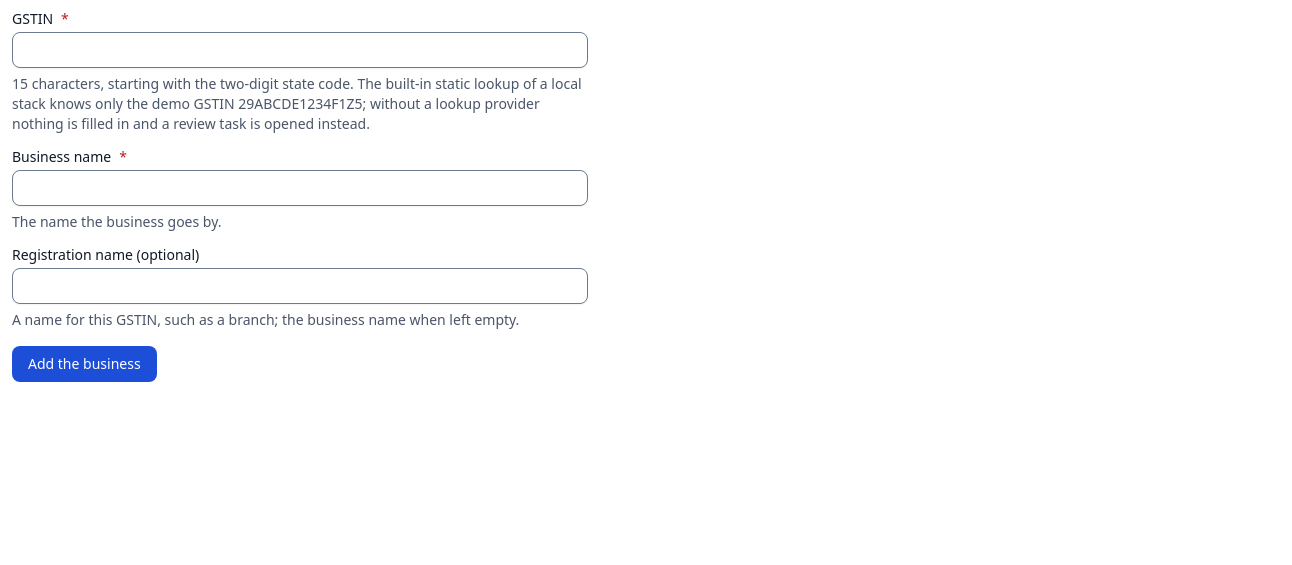
Test: BusinessForm › shows the service's problem with its correlation id
Click the button "Add the business": (84, 364) [12,346,157,382]
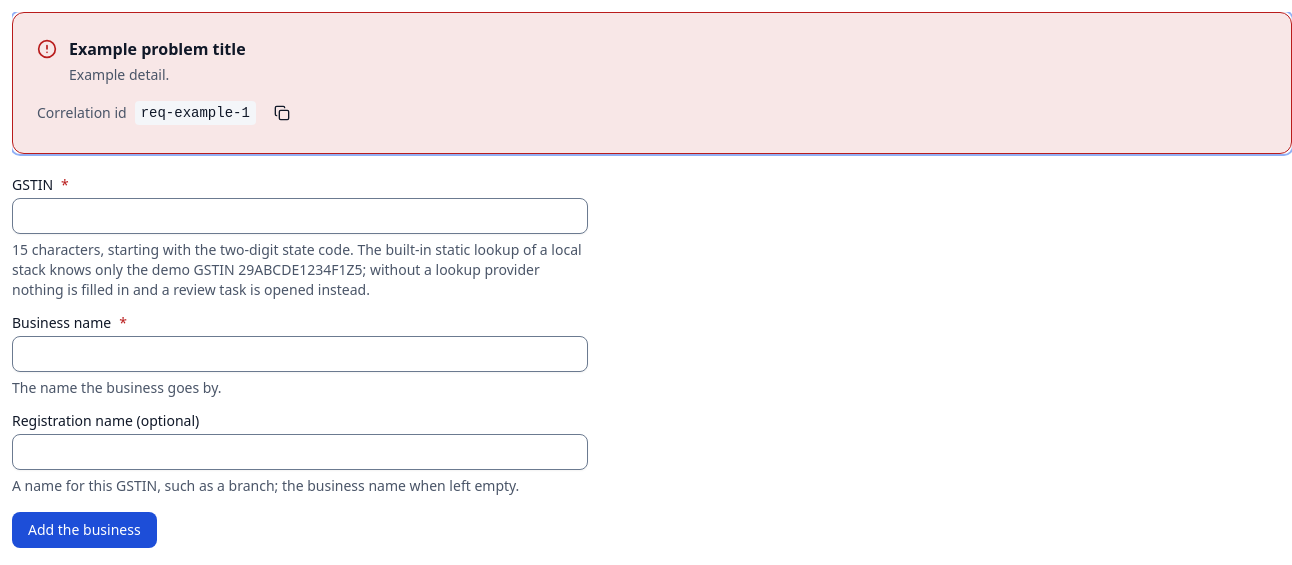
Expected: the text "Example problem title" is shown, [69,38,246,60]
Expected: the text "req-example-1" is shown, [135,101,256,125]
